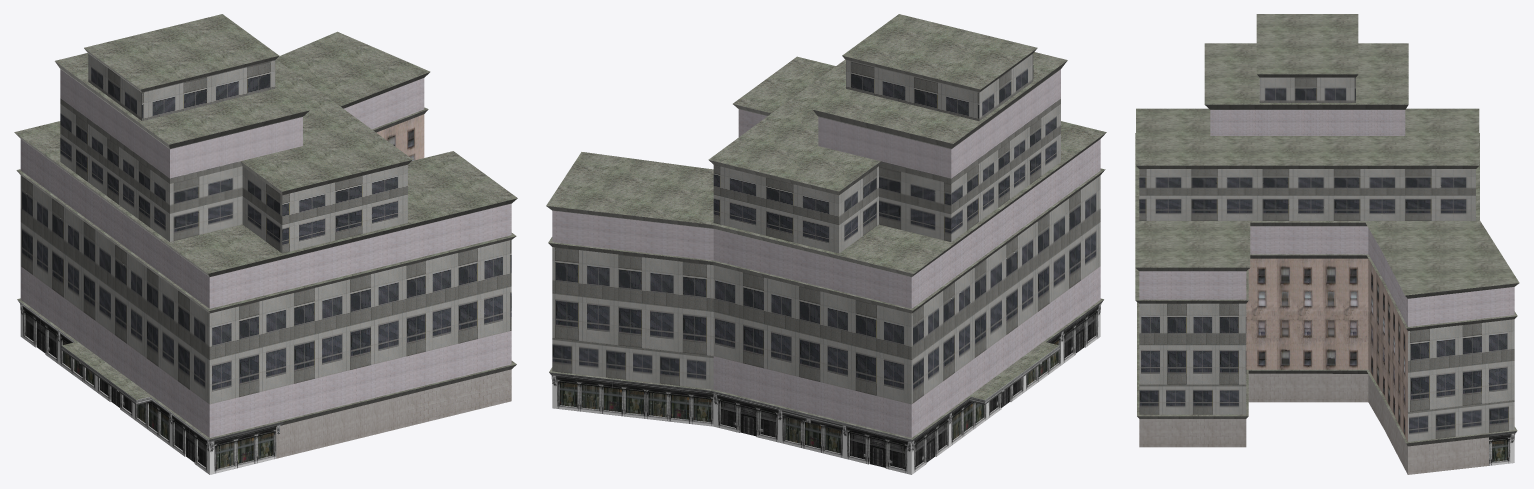
File: eastcolumb1_lan.obj
The picture shows the model from 3 angles, left to right: view 1: azimuth 30°, elevation 25°; view 2: azimuth 150°, elevation 25°; view 3: azimuth 270°, elevation 25°; orthographic projection. The views are drawn at different scales.
Visible parts, largest first — view 1: eastcolumb1_LAn; view 2: eastcolumb1_LAn; view 3: eastcolumb1_LAn.
Boxes of the visible parts, x1=… form: eastcolumb1_LAn: x1=14, y1=14, x2=517, y2=474; eastcolumb1_LAn: x1=546, y1=14, x2=1106, y2=474; eastcolumb1_LAn: x1=1135, y1=14, x2=1519, y2=474.
Bounding box in the file's own units: 49.12 × 41.06 × 47.53.
